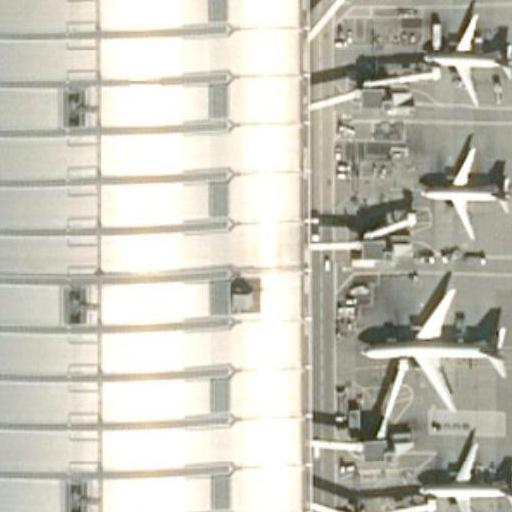Aircraft: (359, 285, 506, 412), (416, 7, 512, 103), (411, 146, 511, 236), (414, 443, 512, 512)
